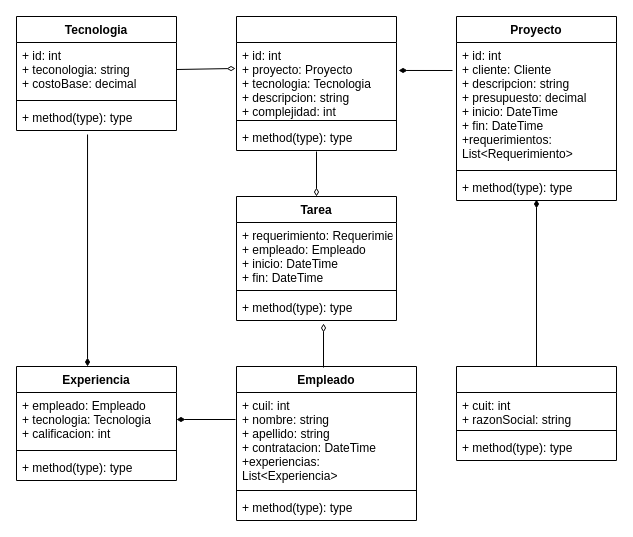
Some shapes in this 633 by 537 pixel diagram are drawn without their labels. Here are the shapes that lost their labels. From the top down, the box of each, then its label:
(236, 16, 396, 150): Requerimiento
(456, 366, 616, 460): Cliente
